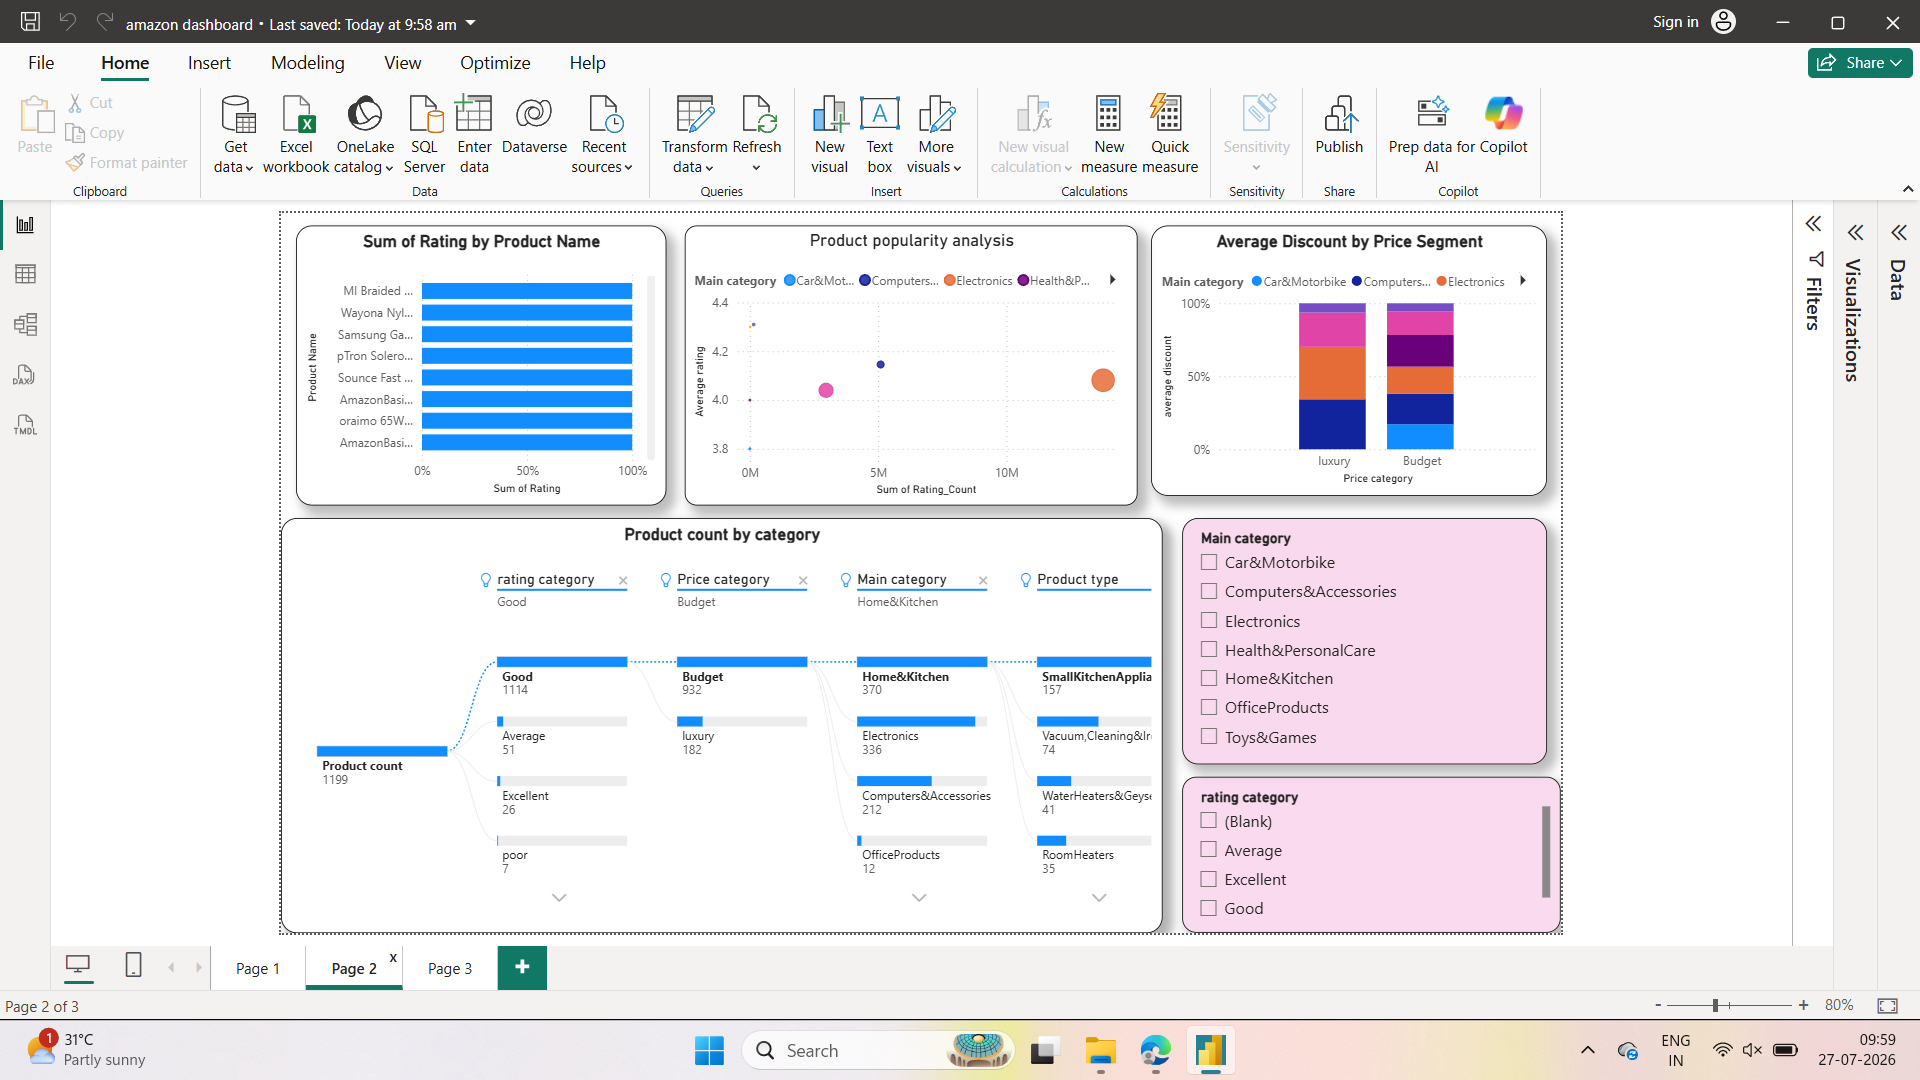

What the dashboard file says about the page in this screenshot:
{"tool":"powerbi","page":{"name":"Page 2","canvas":[1280,720],"ordinal":1},"visuals":[{"type":"hundredPercentStackedBarChart","fields":{"Category":["Amazon_sales.Product Name"],"Y":["Sum(Amazon_sales.Rating)"]},"box":[15,12.5,370,280],"z":0},{"type":"scatterChart","title":"Product popularity analysis","fields":{"X":["Sum(Amazon_sales.Rating_Count)"],"Y":["Table.Average rating"],"Series":["Amazon_sales.Main category"],"Size":["Sum(Amazon_sales.Discount price)"]},"box":[403.8,12.5,452.5,280],"z":1000},{"type":"hundredPercentStackedColumnChart","title":"Average Discount by Price Segment","fields":{"Category":["Amazon_sales.Price category"],"Y":["Table.average discount"],"Series":["Amazon_sales.Main category"]},"box":[870,12.5,396.2,270],"z":2000},{"type":"decompositionTreeVisual","title":"Product count by category","fields":{"Analyze":["Table.Product count"],"ExplainBy":["Amazon_sales.rating category","Amazon_sales.Price category","Amazon_sales.Main category","Amazon_sales.Product type"]},"box":[0,305,881.2,415],"z":3000},{"type":"slicer","fields":{"Values":["Amazon_sales.Main category"]},"box":[901.2,305,365,246.2],"z":4000},{"type":"slicer","fields":{"Values":["Amazon_sales.rating category"]},"box":[901.2,563.8,378.8,156.2],"z":5000}]}

Visuals, with their boxes on the page's 1280x720 design canvas (x1, y1, x2, y2). These are canvas units, not pixel positions in the 1920x1080 screenshot, which may show the page scaled, cropped or inside an application window:
hundredPercentStackedBarChart - Amazon_sales.Product Name x Sum(Amazon_sales.Rating): region(15, 12, 385, 292)
"Product popularity analysis" scatterChart: region(404, 12, 856, 292)
"Average Discount by Price Segment" hundredPercentStackedColumnChart: region(870, 12, 1266, 282)
"Product count by category" decompositionTreeVisual: region(0, 305, 881, 720)
slicer - Amazon_sales.Main category: region(901, 305, 1266, 551)
slicer - Amazon_sales.rating category: region(901, 564, 1280, 720)
